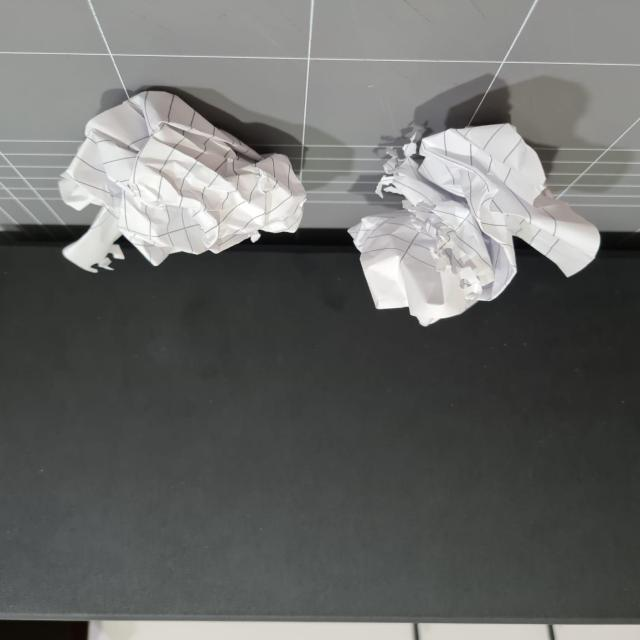kertas: (52, 90, 306, 284), (354, 122, 596, 320)
